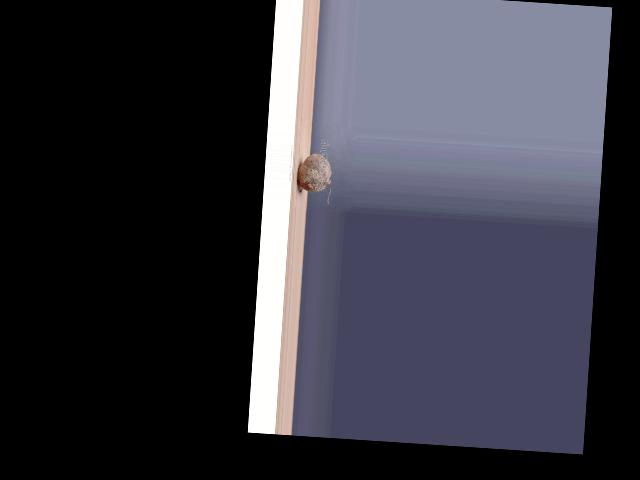beet: (296, 152, 333, 205)
